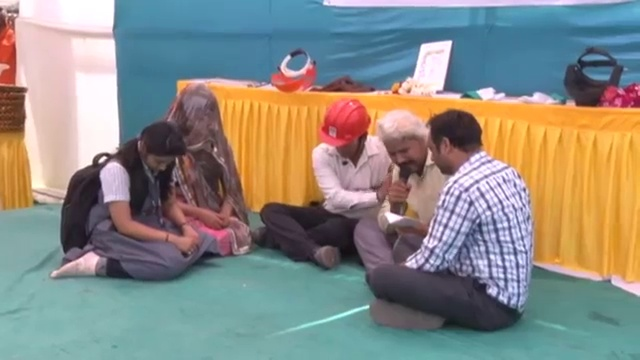helmet: (319, 96, 373, 152)
helmet_off: (425, 109, 486, 180), (170, 83, 221, 152), (380, 108, 428, 179), (131, 120, 186, 179)
helmet_on: (321, 96, 373, 163)
person: (351, 106, 539, 327), (49, 119, 211, 283), (265, 88, 394, 265), (160, 82, 254, 259), (354, 108, 451, 273)
